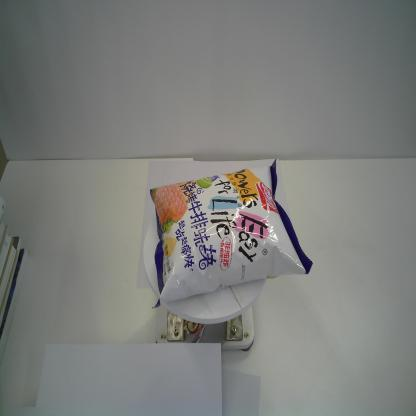Puffed Food: (150, 157, 314, 309)
